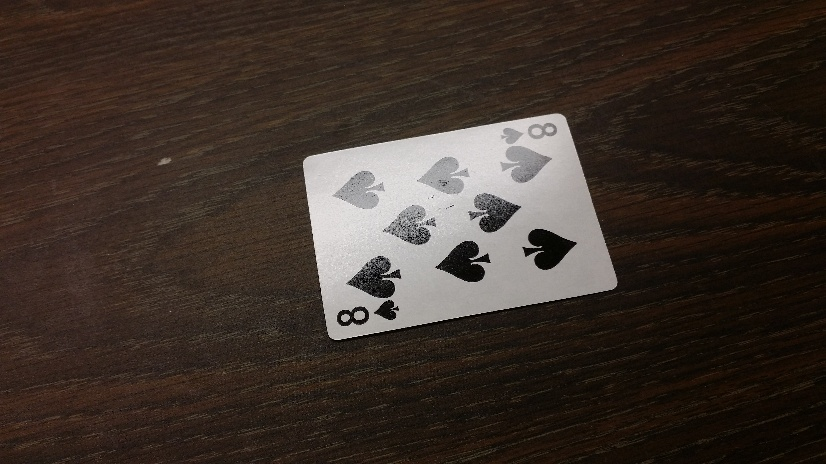S8: (335, 299, 402, 333), (498, 122, 561, 146)
